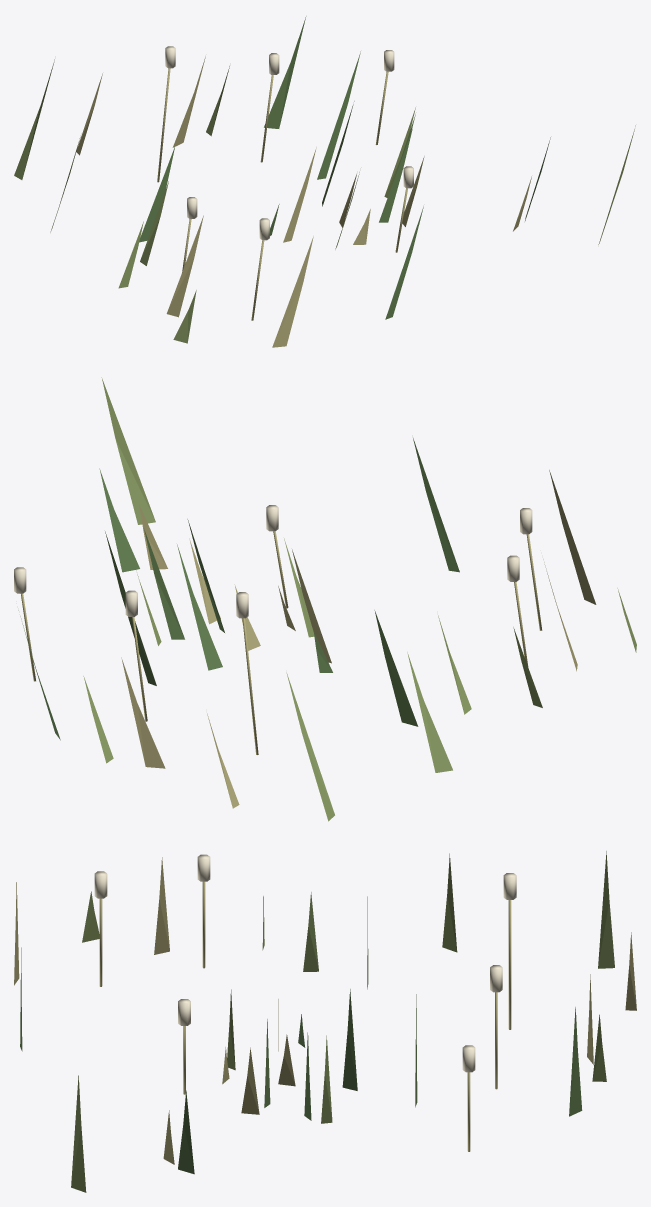
File: club-meadow.glb
The picture shows the model from 3 angles, top to bottom: view 1: azimuth 30°, elevation 25°; view 2: azimuth 150°, elevation 25°; view 3: azimuth 270°, elevation 25°; orthographic projection. The views are drawn at different scales.
Parts seen in each view (by area): view 1: Bent grass blade.017, Bent grass blade, Bent grass blade.026, Bent grass blade.012, Bent grass blade.006, Bent grass blade.024, Bent grass blade.025, Bent grass blade.003, Bent grass blade.011; view 2: Bent grass blade.022, Bent grass blade.004, Bent grass blade.023, Bent grass blade.006, Bent grass blade.018, Bent grass blade.021, Bent grass blade.003, Bent grass blade.009, Bent grass blade.017, Bent grass blade.025, Bent grass blade.012; view 3: Bent grass blade.025, Bent grass blade.022, Bent grass blade.026, Bent grass blade.021, Bent grass blade, Bent grass blade.004, Bent grass blade.018, Bent grass blade.013, Bent grass blade.002, Bent grass blade.010, Bent grass blade.016, Seed stalk.001 (+2 smaller).
Boxes of the visible parts, bbox=[...] form: Bent grass blade.017: bbox=[272, 236, 313, 347]; Bent grass blade: bbox=[264, 16, 306, 128]; Bent grass blade.026: bbox=[166, 215, 203, 317]; Bent grass blade.012: bbox=[317, 51, 360, 179]; Bent grass blade.006: bbox=[139, 146, 175, 242]; Bent grass blade.024: bbox=[379, 129, 412, 222]; Bent grass blade.025: bbox=[14, 59, 54, 179]; Bent grass blade.003: bbox=[385, 206, 423, 319]; Bent grass blade.011: bbox=[283, 147, 316, 242]; Bent grass blade.022: bbox=[101, 377, 155, 524]; Bent grass blade.004: bbox=[407, 652, 452, 772]; Bent grass blade.023: bbox=[121, 657, 165, 768]; Bent grass blade.006: bbox=[374, 610, 418, 726]; Bent grass blade.018: bbox=[99, 468, 139, 572]; Bent grass blade.021: bbox=[177, 544, 222, 670]; Bent grass blade.003: bbox=[413, 438, 459, 572]; Bent grass blade.009: bbox=[144, 529, 184, 639]; Bent grass blade.017: bbox=[549, 470, 596, 604]; Bent grass blade.025: bbox=[286, 672, 334, 821]; Bent grass blade.012: bbox=[105, 531, 156, 685]; Bent grass blade.025: bbox=[598, 851, 614, 968]; Bent grass blade.022: bbox=[71, 1075, 86, 1192]; Bent grass blade.026: bbox=[154, 857, 169, 954]; Bent grass blade.021: bbox=[342, 989, 357, 1090]; Bent grass blade: bbox=[569, 1007, 582, 1116]; Bent grass blade.004: bbox=[442, 853, 457, 952]; Bent grass blade.018: bbox=[178, 1090, 194, 1174]; Bent grass blade.013: bbox=[303, 892, 318, 971]; Bent grass blade.002: bbox=[241, 1047, 259, 1114]; Bent grass blade.010: bbox=[321, 1035, 332, 1123]; Bent grass blade.016: bbox=[592, 1014, 606, 1081]; Seed stalk.001: bbox=[508, 900, 511, 1029].
Bounding box in the file's own units: 1.83 × 0.5036 × 1.76.
